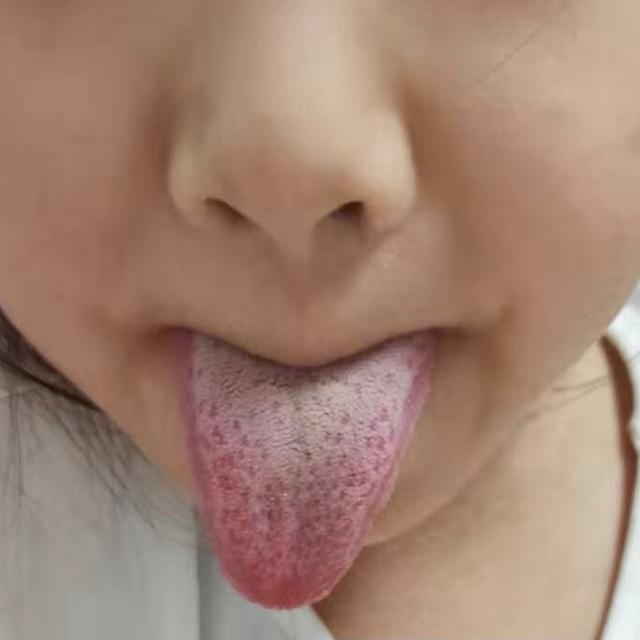baitaishe: (177, 361, 420, 611)
